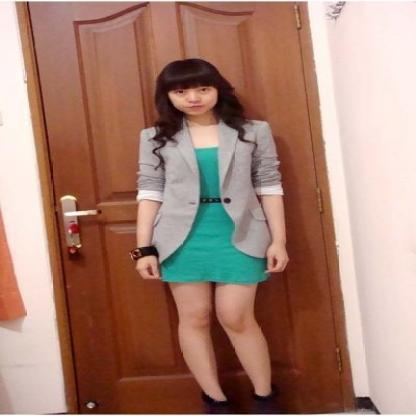dress: (157, 148, 269, 285)
jacket: (137, 120, 281, 257)
shoe: (187, 396, 236, 416)
